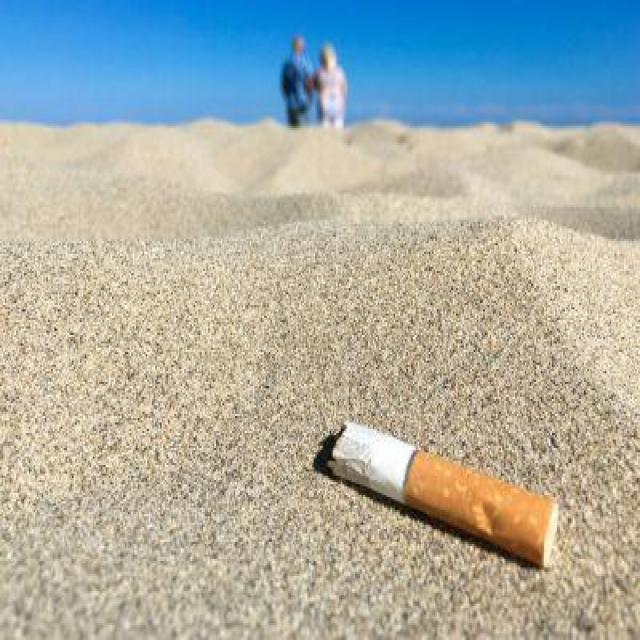cigarette: (312, 422, 557, 570)
